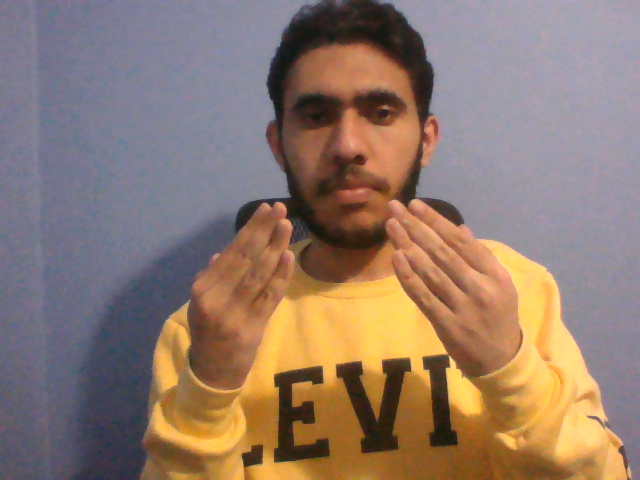thanks: (181, 193, 534, 396)
